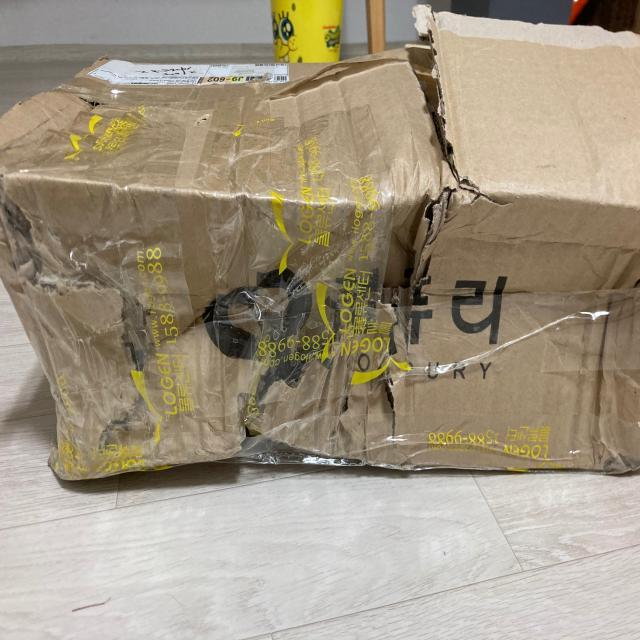box: (1, 17, 640, 483)
crushed: (3, 31, 465, 481)
